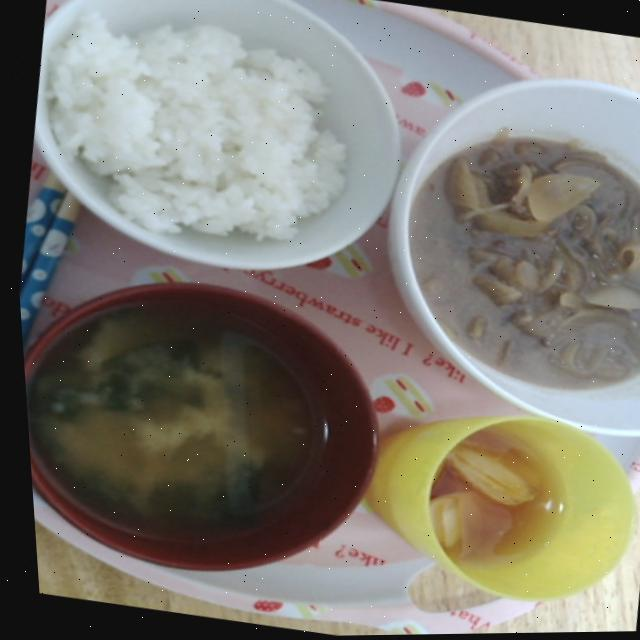米饭主食: (10, 0, 394, 280)
